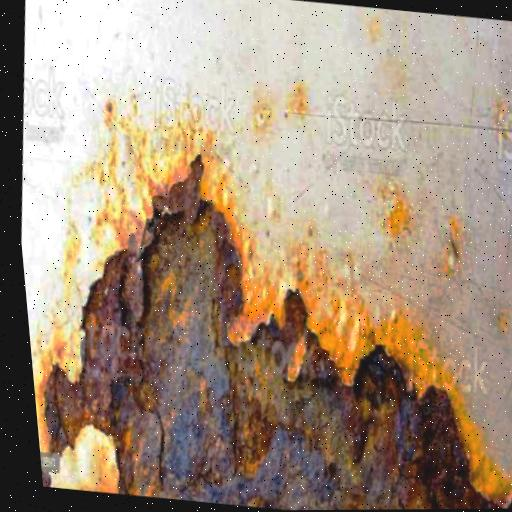corrosion: (11, 120, 512, 512)
